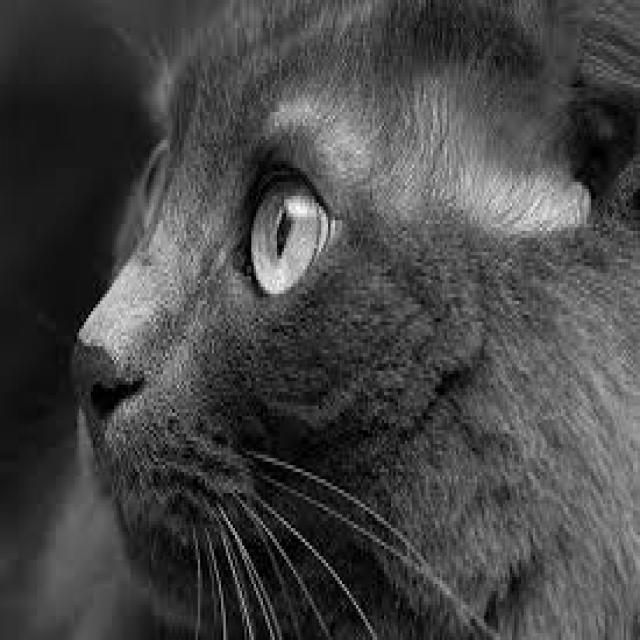Cat: (60, 2, 640, 640)
